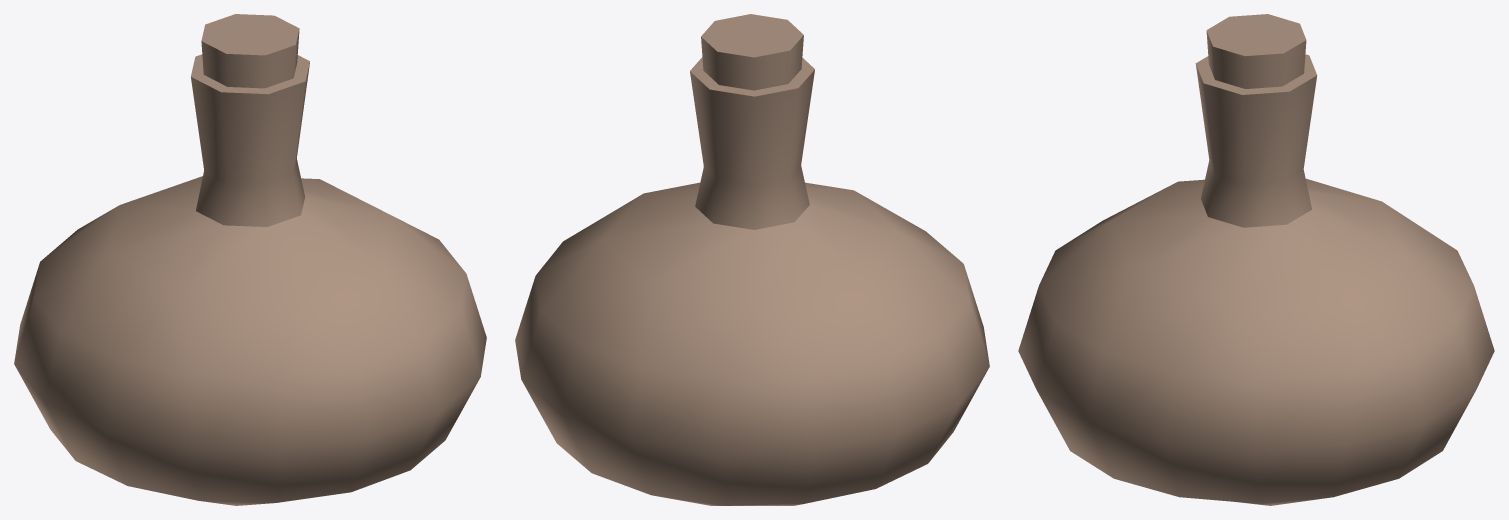
File: Prop_Sm_SmallContainer_3_A.fbx
3 renders of one model, left to right at view 1: azimuth 30°, elevation 25°; view 2: azimuth 150°, elevation 25°; view 3: azimuth 270°, elevation 25°, orthographic.
Parts seen in each view (by area): view 1: polySurface50; view 2: polySurface50; view 3: polySurface50.
Part boxes in pixels (x1=…): polySurface50: x1=14, y1=14, x2=486, y2=505; polySurface50: x1=515, y1=14, x2=989, y2=505; polySurface50: x1=1018, y1=14, x2=1494, y2=505.
Size of the model in its own units: 0.3453 by 0.3403 by 0.3453.
